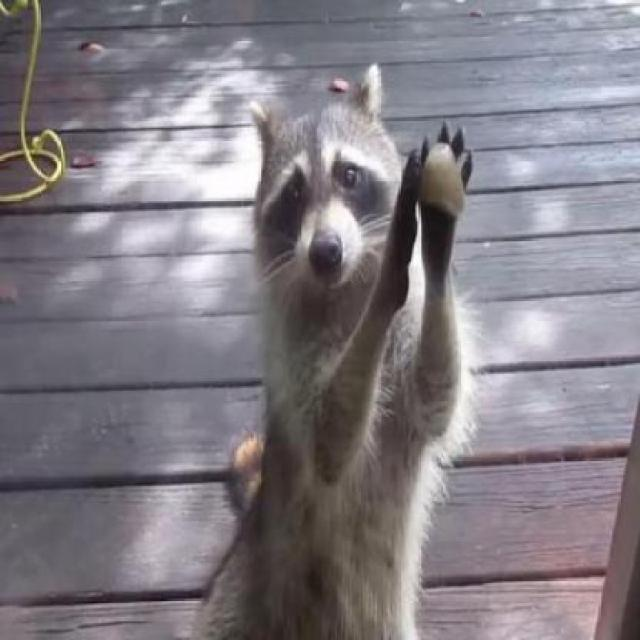raccon: (190, 63, 478, 640)
